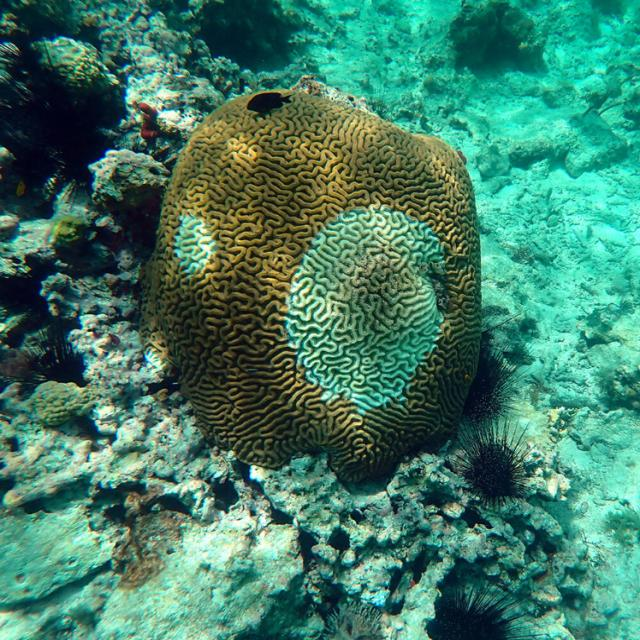Coral: (140, 87, 482, 476)
